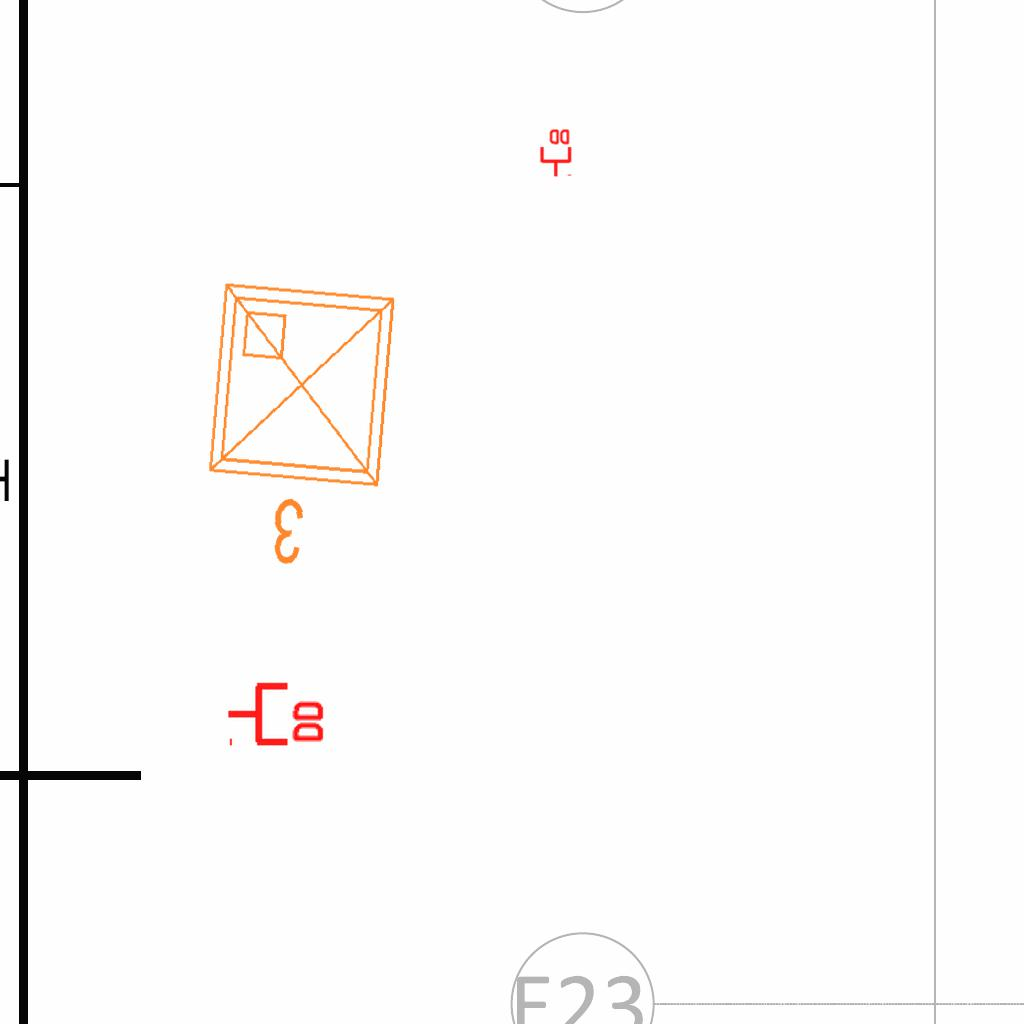Datenanschluss_zweifach: (225, 678, 328, 747), (538, 127, 572, 178)
Einbaudownlights_LED_Konferenzraeume: (185, 267, 419, 585)
